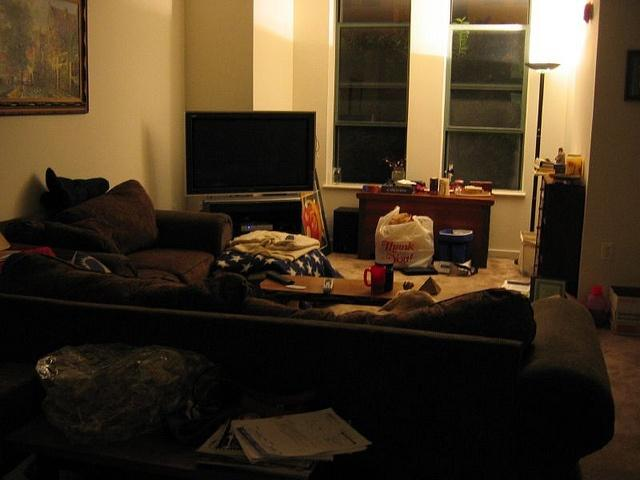AIO PC-Monitor-TV: (183, 109, 315, 198)
